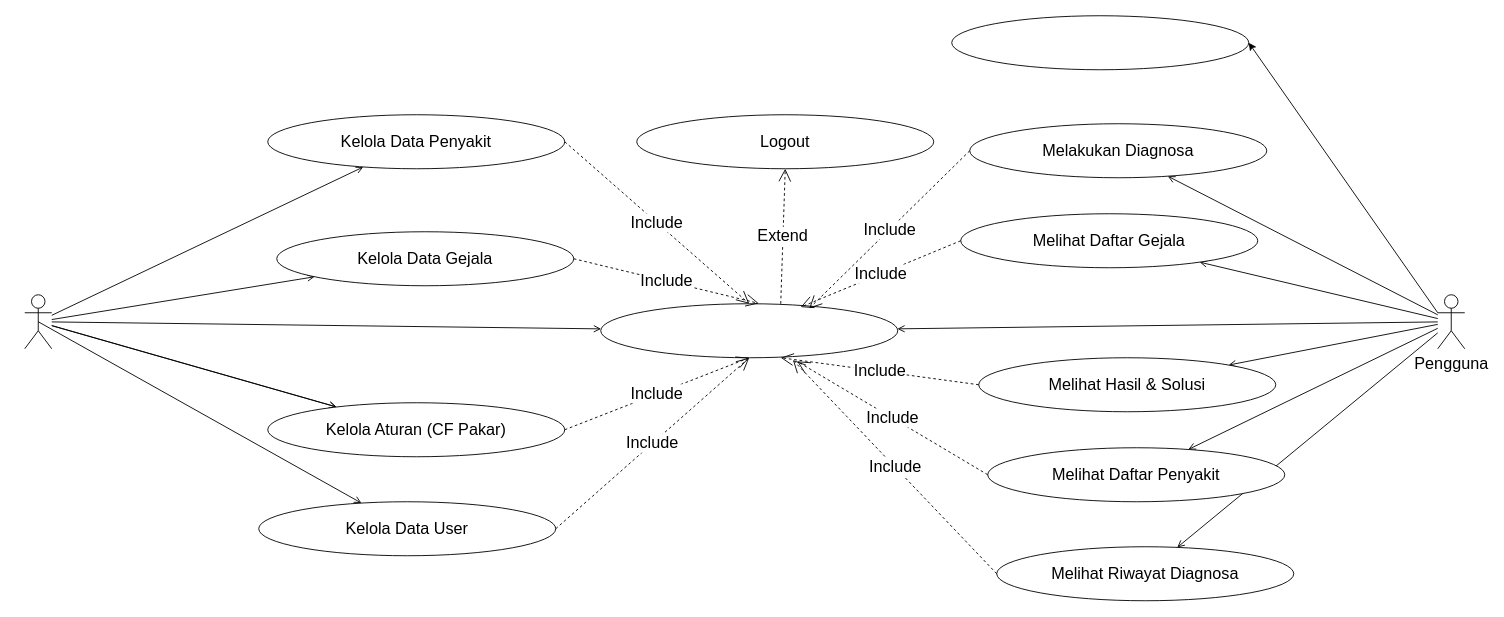
Some shapes in this 1504 by 617 pixel diagram are drawn without their labels. Each missing label, with the centre of its shape:
"Admin" belongs at (x=38, y=321).
"Login" belongs at (x=749, y=330).
"Register" belongs at (x=1100, y=42).
